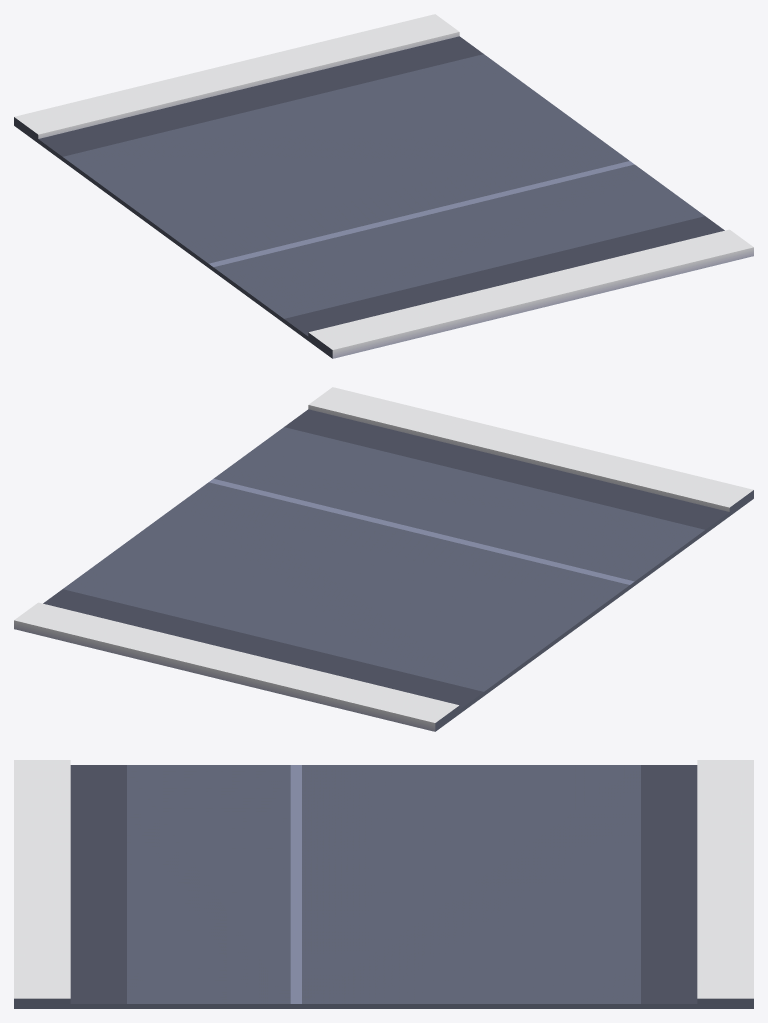
File: road-side.glb
The picture shows the model from 3 angles, top to bottom: view 1: azimuth 30°, elevation 25°; view 2: azimuth 150°, elevation 25°; view 3: azimuth 270°, elevation 25°; orthographic projection. The views are drawn at different scales.
Parts seen in each view (by area): view 1: road-side; view 2: road-side; view 3: road-side.
Part boxes in pixels (x1,y1,x2,y2): road-side: (14, 14, 753, 358); road-side: (14, 387, 753, 731); road-side: (14, 760, 753, 1008).
Bounding box in the file's own units: 1 × 0.02 × 1.31.
Materials: 1 (1 with a texture image).
